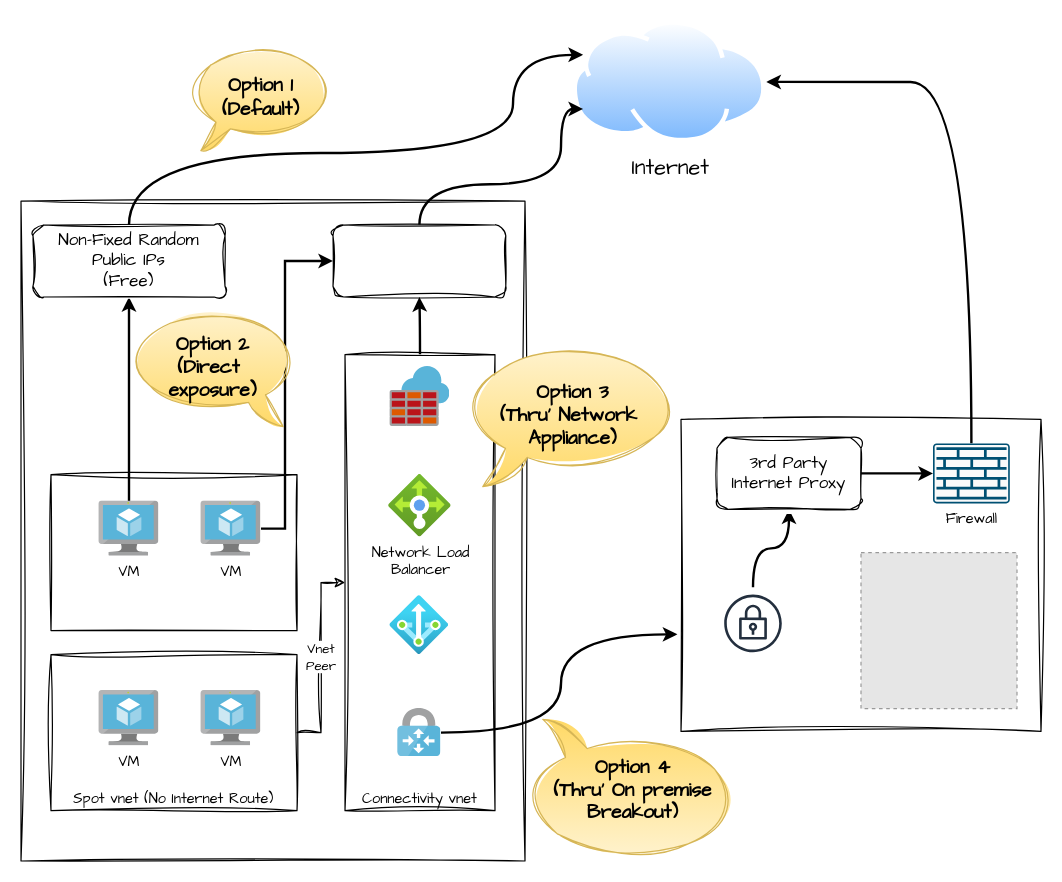
This 1062x882 diagram has some shape labels left out. Grey dashed boxes stand in for pictures. The box of each missing label's shape, as (x1, y1, x2, y2) in pixels:
Azure Firewall: (389, 366, 449, 426)
Azure VNet Resources: (20, 200, 525, 861)
Dedicated Public IPs (Paid): (332, 224, 506, 297)
Generic vnet (With Internet Route): (50, 473, 297, 631)
NAT Gateway: (389, 595, 448, 654)
On Premise Environment: (680, 418, 1041, 731)
VNG: (397, 708, 440, 756)
VPN Gateway: (716, 586, 789, 659)
